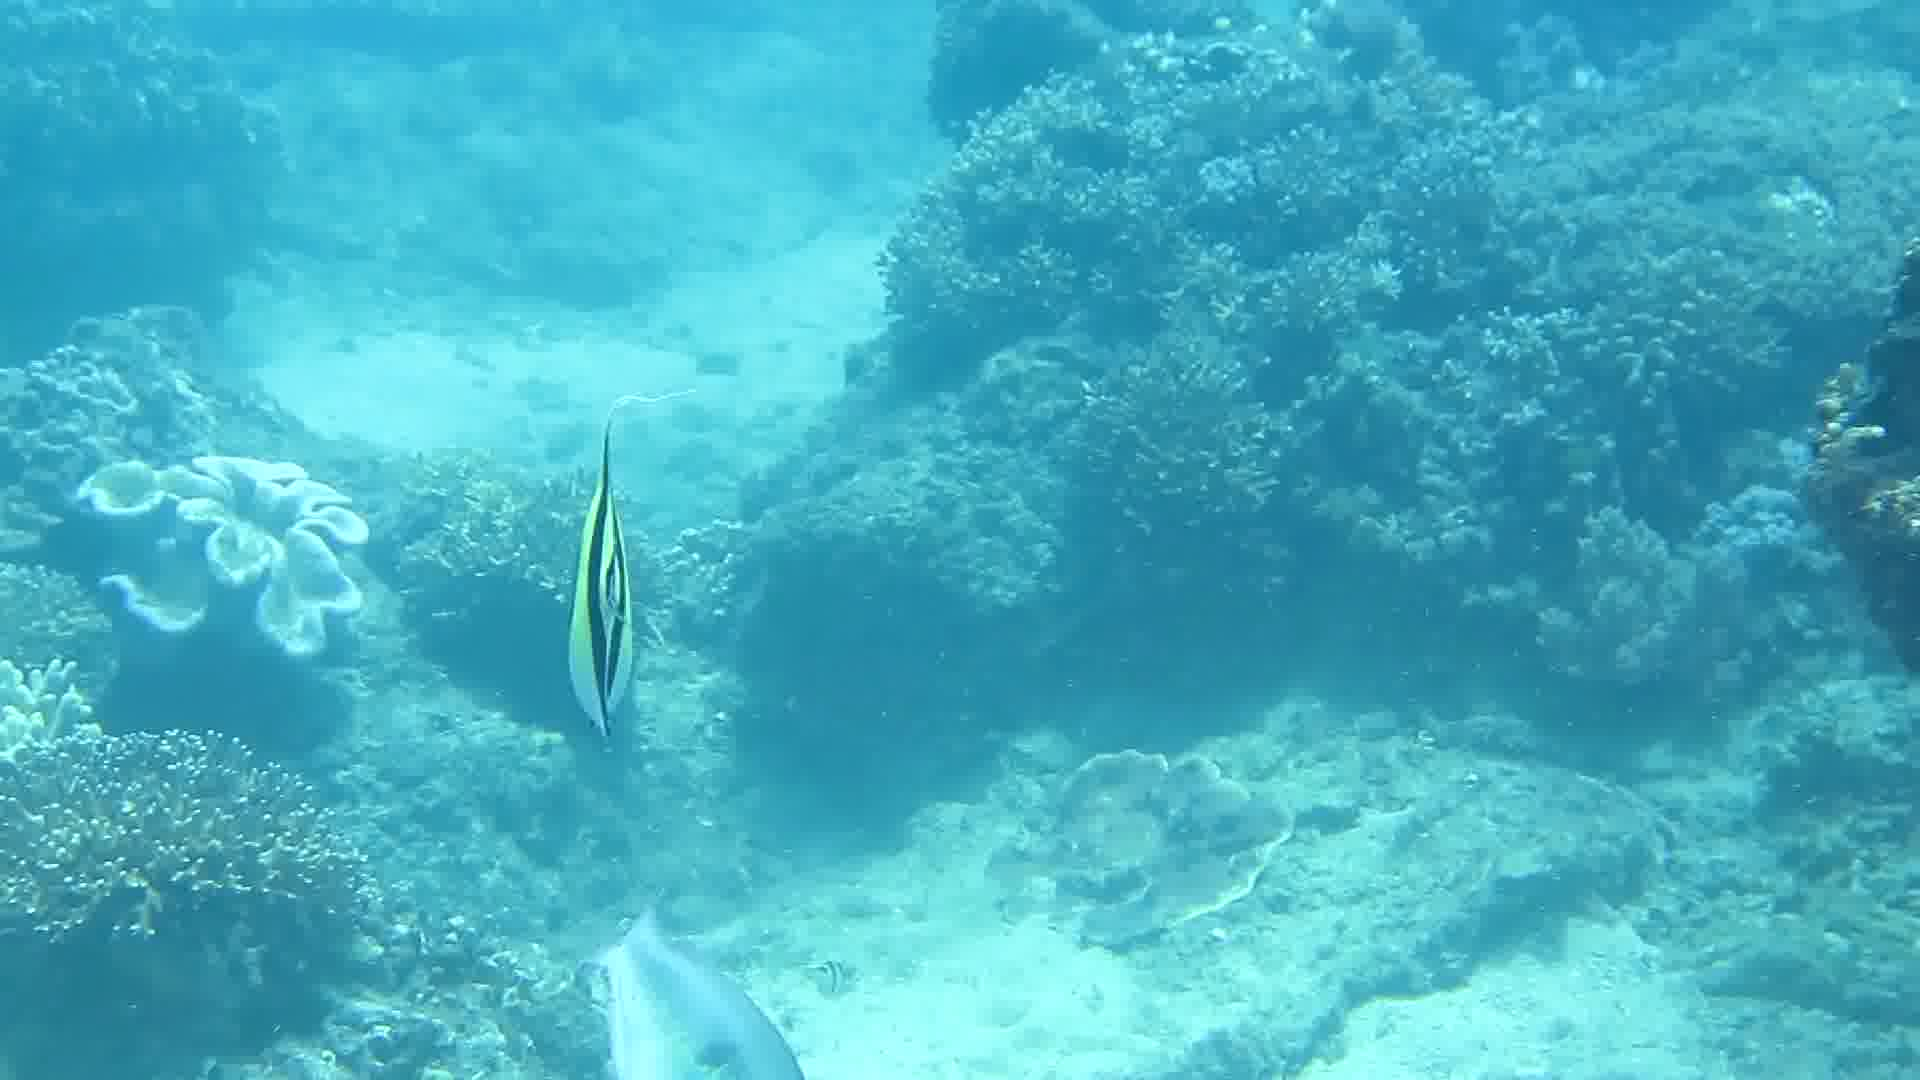Zanclus cornutus: (505, 440, 731, 799)
